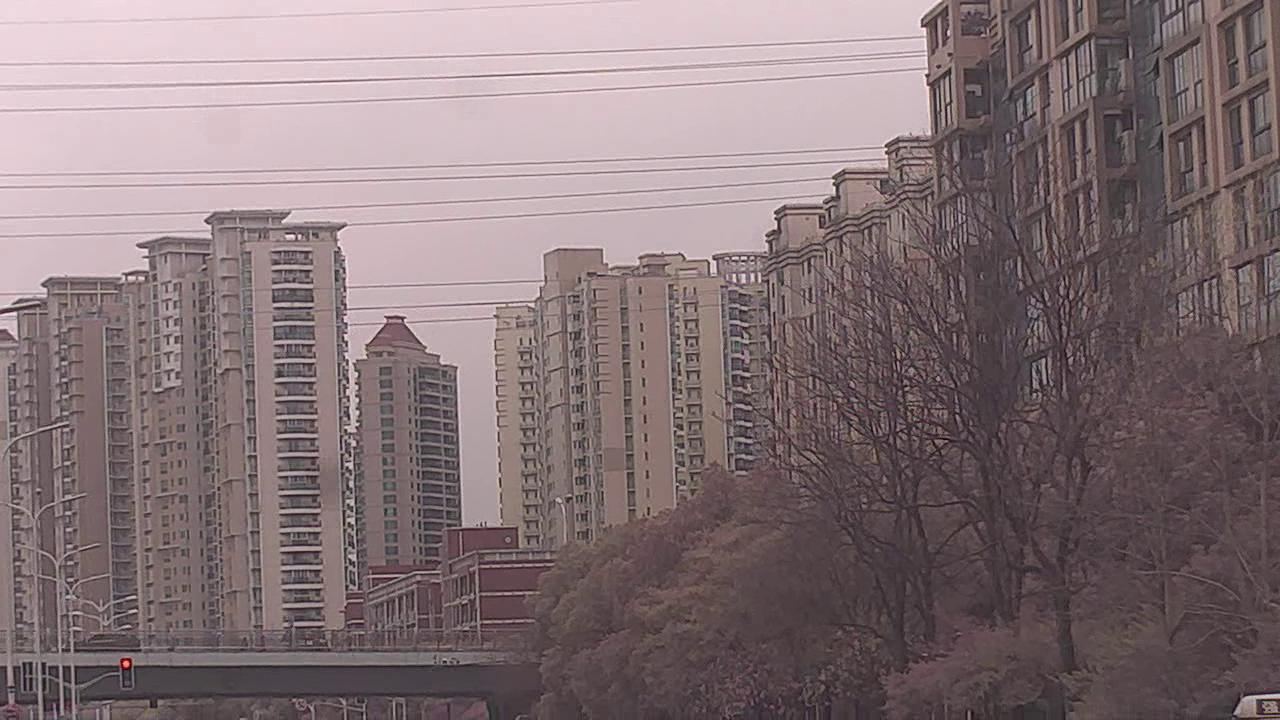traffic_light: (120, 654, 133, 688)
